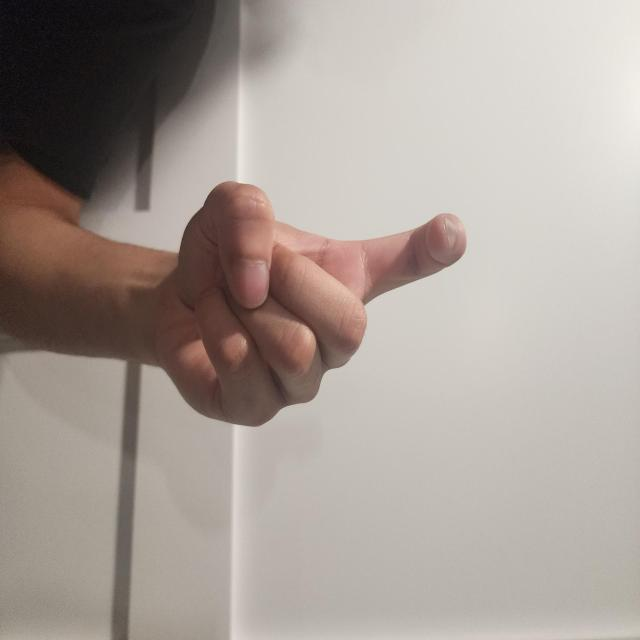X: (291, 226, 488, 640)
